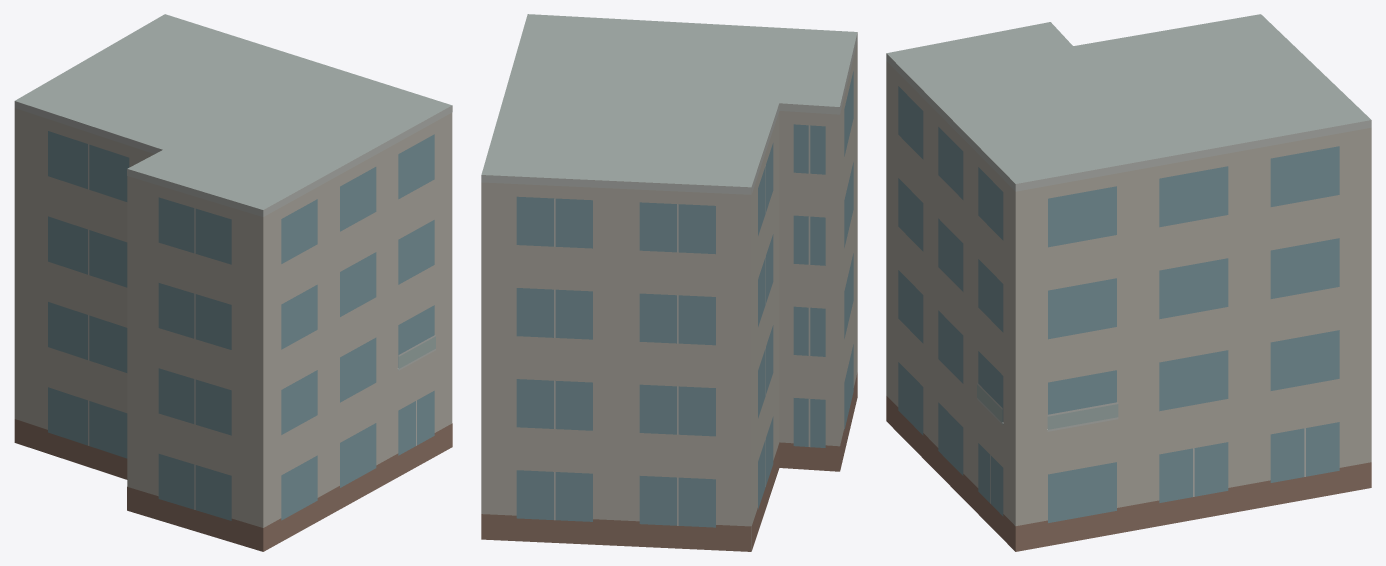
The model's file is survey-upis-32677905.glb.
3 views of the same model, side by side, from view 1: azimuth 30°, elevation 25°; view 2: azimuth 150°, elevation 25°; view 3: azimuth 270°, elevation 25° (orthographic). The views are drawn at different scales.
Visible parts, largest first — view 1: survey-upis-32677905.tmp; view 2: survey-upis-32677905.tmp; view 3: survey-upis-32677905.tmp.
Boxes of the visible parts, <box> form: survey-upis-32677905.tmp: <box>14,14,452,551</box>; survey-upis-32677905.tmp: <box>481,14,857,551</box>; survey-upis-32677905.tmp: <box>886,14,1371,551</box>.
Size of the model in its own units: 11.67 by 11.76 by 14.08.
